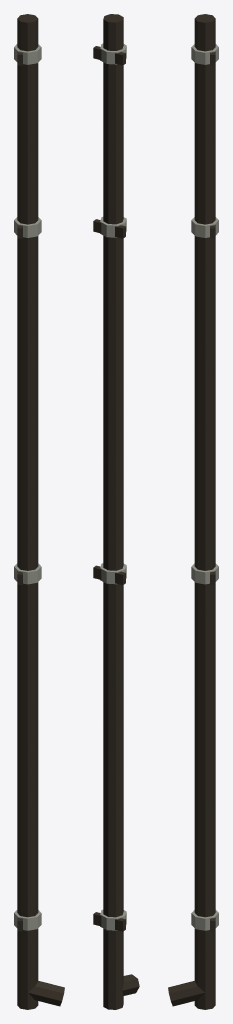
File: drainpipe.fbx
The picture shows the model from 3 angles, left to right: view 1: azimuth 90°, elevation 25°; view 2: azimuth 150°, elevation 25°; view 3: azimuth 270°, elevation 25°; orthographic projection.
Visible parts, largest first — view 1: drainpipe; view 2: drainpipe; view 3: drainpipe.
Boxes of the visible parts, bbox=[...] form: drainpipe: bbox=[14, 14, 64, 1009]; drainpipe: bbox=[93, 14, 139, 1009]; drainpipe: bbox=[168, 14, 218, 1009].
Bounding box in the file's own units: 180 × 5703 × 267.
Materials: 1 (1 with a texture image).
